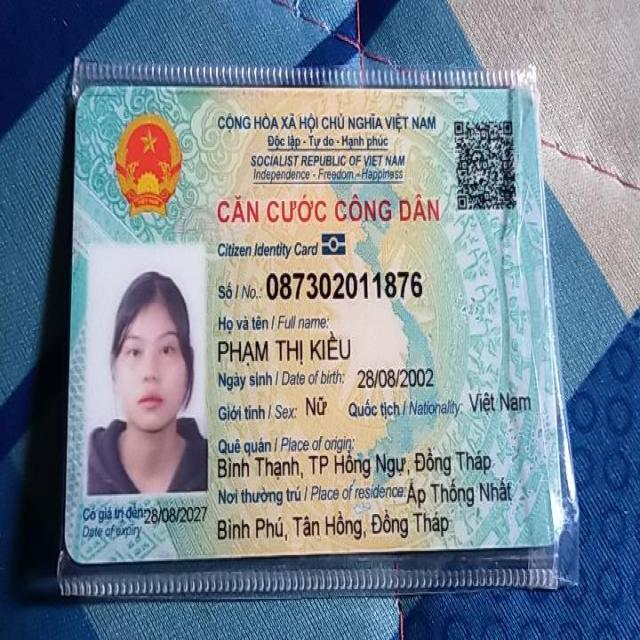bottom_left: (50, 511, 104, 578)
bottom_right: (522, 504, 577, 561)
image_person: (71, 242, 217, 496)
top_left: (58, 69, 110, 123)
top_right: (484, 70, 526, 118)
